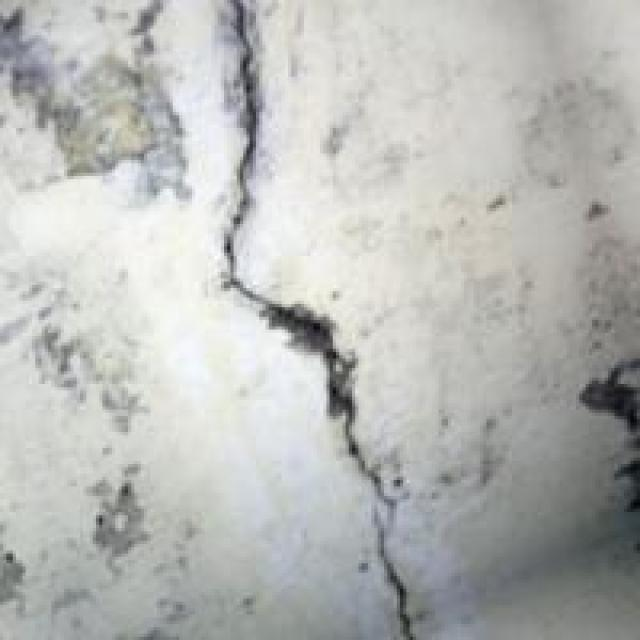crack: (160, 0, 518, 637)
